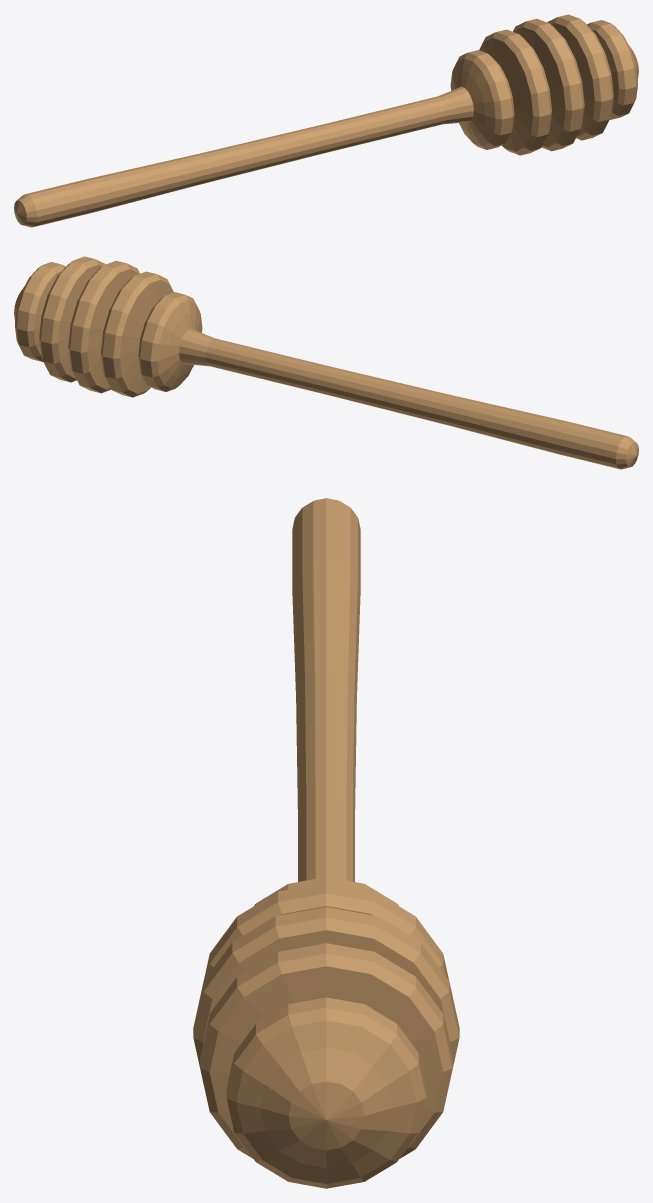
Rendered from NEW_RECOVERY_091_LOD2.fbx.
3 views of the same model, one above another, from view 1: azimuth 30°, elevation 25°; view 2: azimuth 150°, elevation 25°; view 3: azimuth 270°, elevation 25° (orthographic). The views are drawn at different scales.
Visible parts, largest first — view 1: Honey dipper; view 2: Honey dipper; view 3: Honey dipper.
Part boxes in pixels (x1,y1,x2,y2): Honey dipper: (14, 14, 638, 227); Honey dipper: (14, 256, 638, 469); Honey dipper: (193, 498, 459, 1188).
Bounding box in the file's own units: 15 × 2.8 × 2.8.
